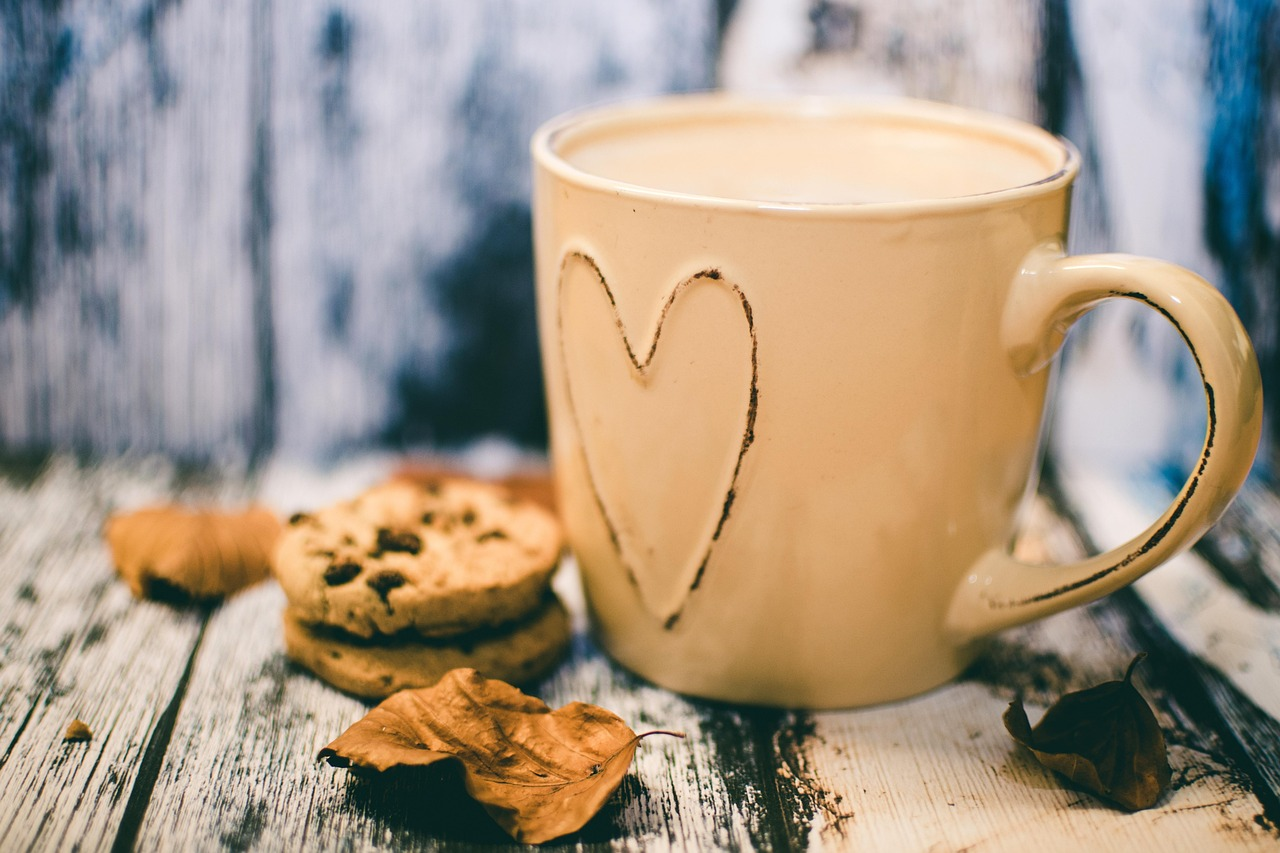mug: (519, 85, 1266, 738)
